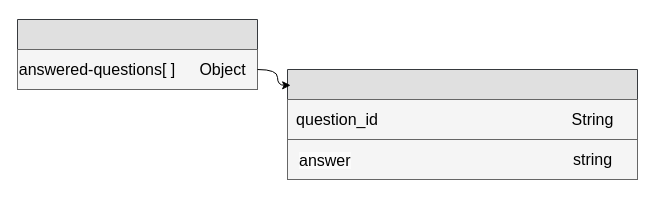
Image size: 655x197. Some labels were removed from this diagram. Here are the shapes that lost their labels. From the top down, the box of each, then its label:
(16, 18, 258, 90): submission
(286, 68, 638, 180): answered-question
